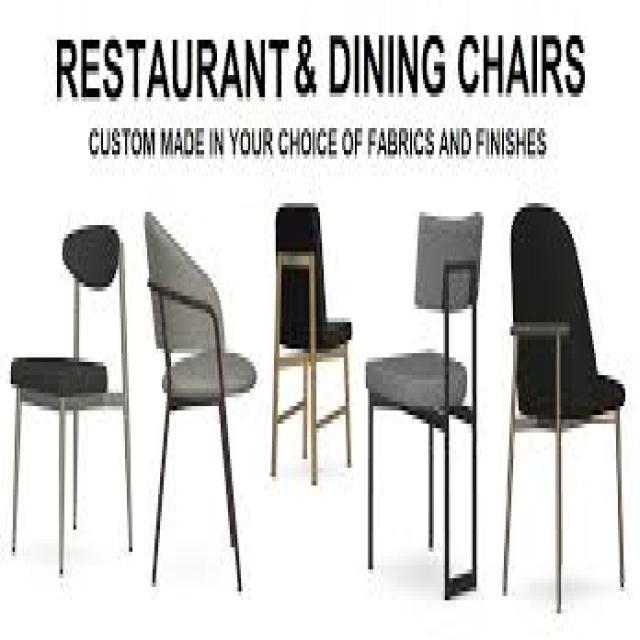chair: (362, 157, 493, 640), (498, 172, 633, 640), (126, 176, 259, 640), (6, 195, 137, 603), (258, 170, 357, 535)
